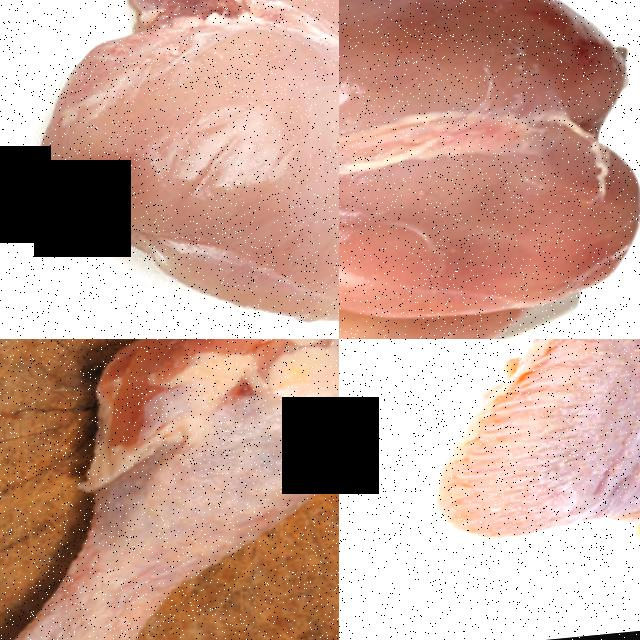chicken breast: (16, 0, 339, 339), (339, 0, 640, 339)
chicken thigh: (0, 339, 339, 640)
chicken wing: (339, 339, 640, 596)
